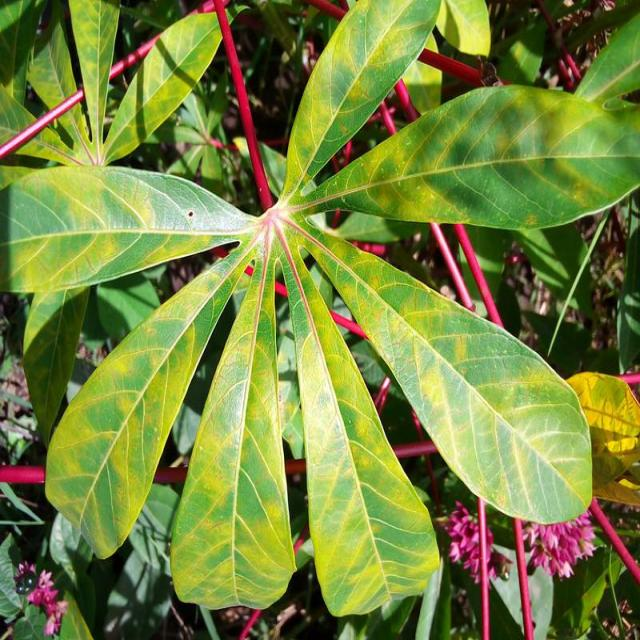cassava leaf: (4, 0, 636, 619), (294, 217, 594, 526), (42, 239, 254, 560), (298, 81, 638, 232), (169, 254, 297, 610), (279, 0, 441, 202)
